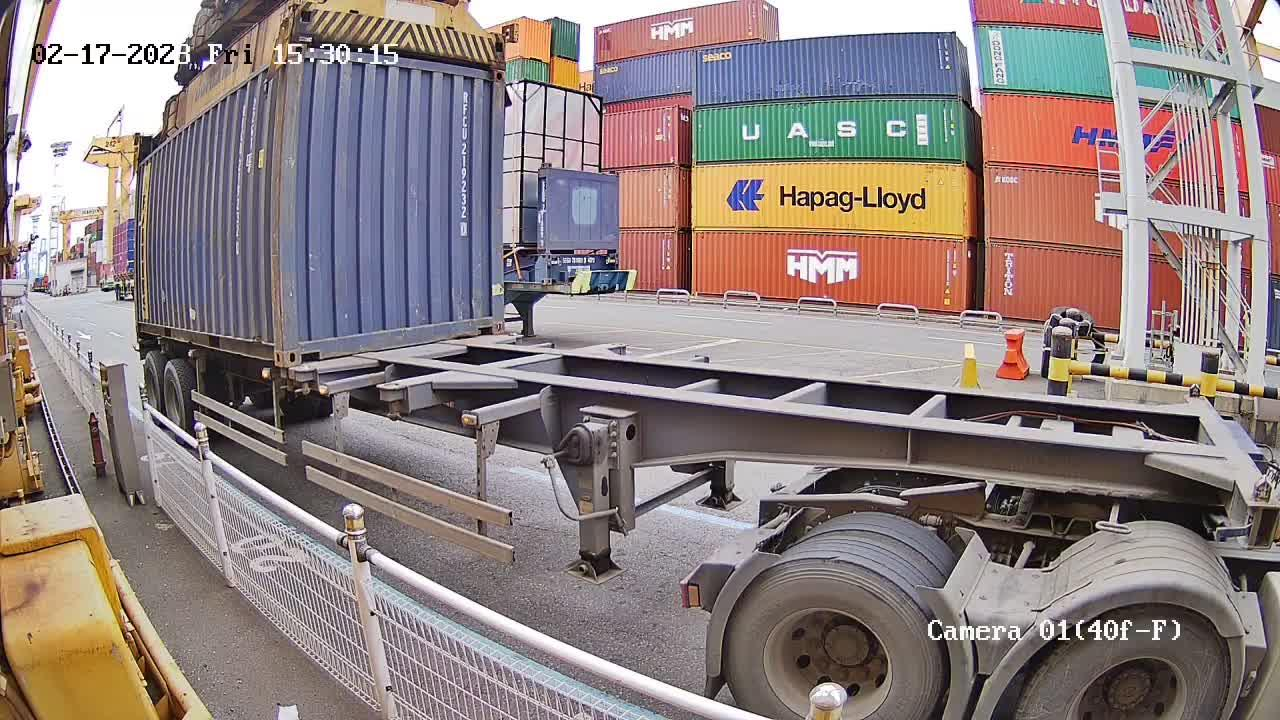Chassis: (302, 333, 521, 382)
Cone: (290, 369, 310, 398), (276, 369, 289, 395)
Hole_L: (283, 328, 323, 368)
Hole_R: (257, 330, 283, 365), (474, 308, 504, 334)
Tire: (166, 363, 187, 442), (143, 356, 162, 423)
